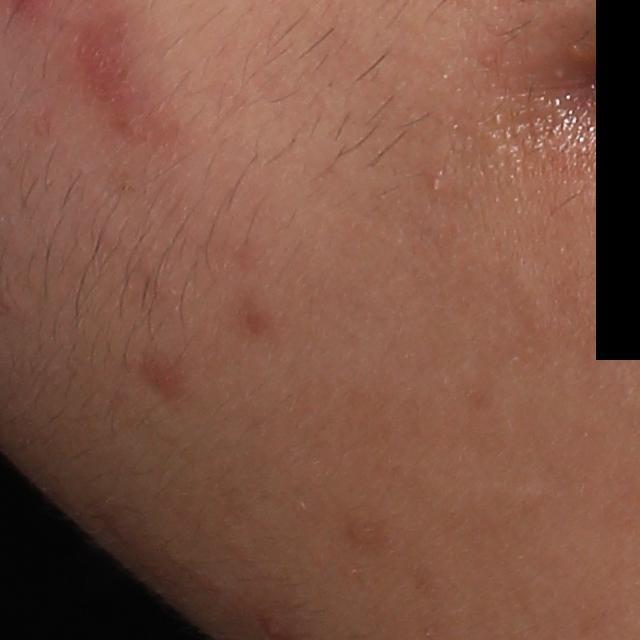comedo: (425, 173, 441, 195)
